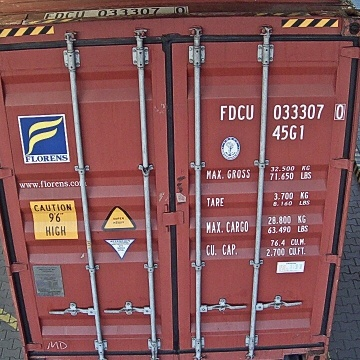serial_id: (221, 104, 345, 119)
